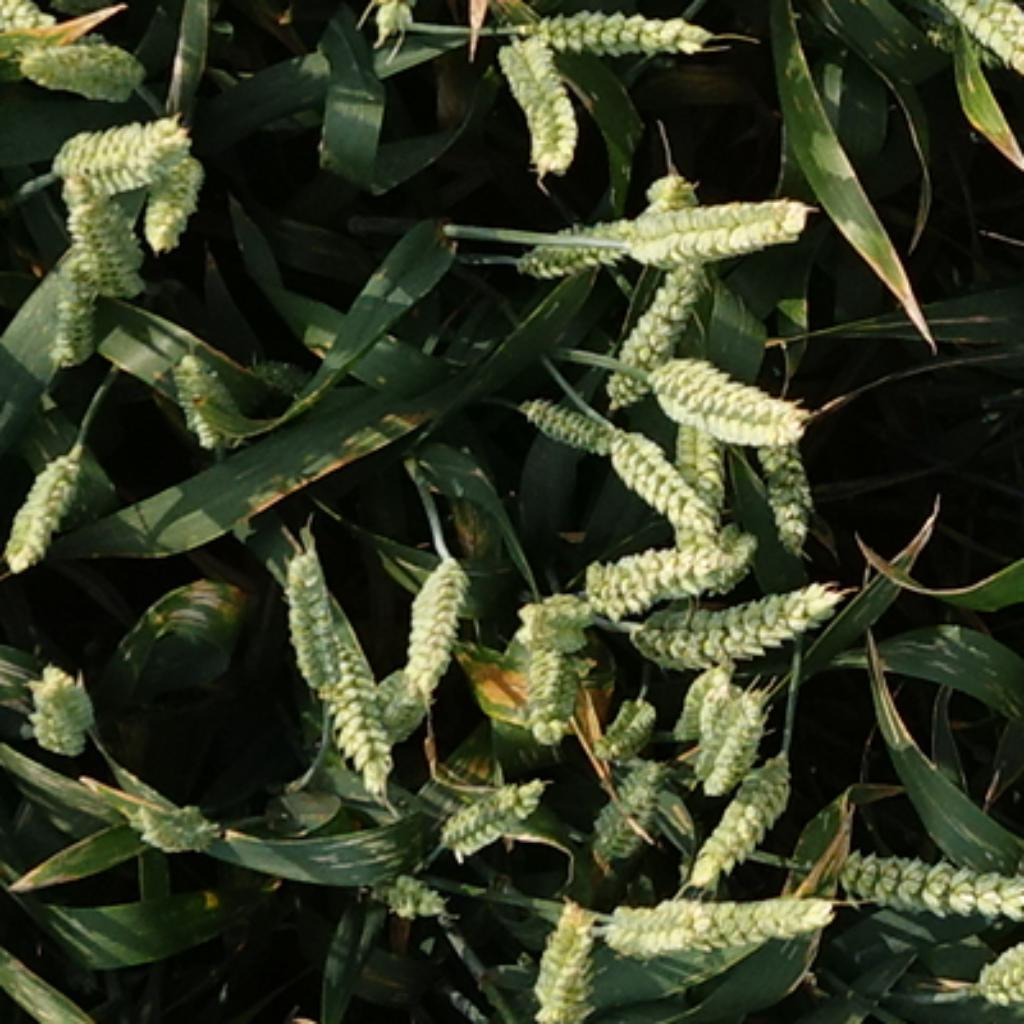0-0: (271, 540, 391, 770), (591, 878, 832, 970), (616, 573, 849, 668), (640, 335, 811, 445), (601, 176, 816, 263), (684, 737, 803, 889), (824, 834, 1024, 924), (599, 256, 709, 412), (576, 524, 757, 604), (43, 107, 204, 194), (494, 33, 588, 179), (606, 419, 724, 535), (2, 454, 107, 582), (522, 0, 716, 58), (158, 337, 258, 448), (16, 30, 157, 107), (396, 547, 471, 691), (432, 762, 547, 852), (58, 176, 148, 291), (509, 207, 647, 279), (696, 680, 770, 803), (586, 747, 670, 855), (527, 896, 599, 1021), (663, 427, 732, 555), (135, 128, 207, 245), (512, 384, 629, 453), (121, 793, 226, 867), (514, 637, 586, 742), (926, 0, 1024, 77), (22, 661, 101, 756), (765, 440, 826, 558), (48, 248, 104, 371), (514, 581, 596, 655), (675, 665, 742, 752), (966, 927, 1024, 1024), (360, 857, 450, 916), (640, 158, 701, 235), (1, 0, 98, 46), (596, 688, 660, 752)
